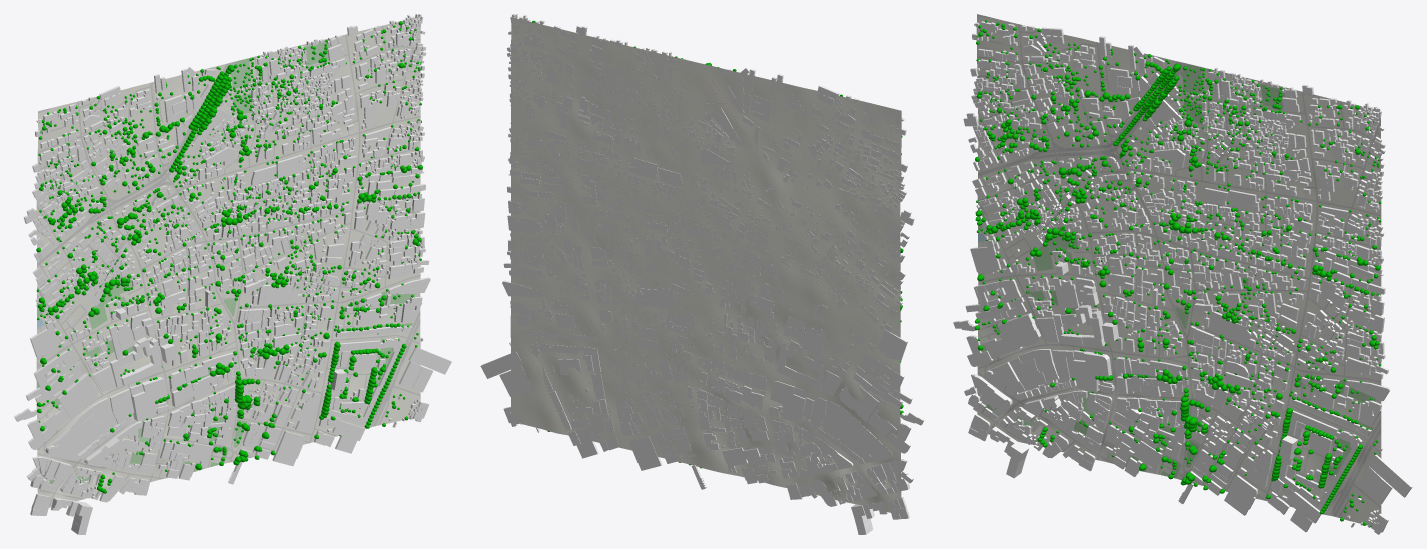
File: topoexport_3D_modeling.glb
The picture shows the model from 3 angles, left to right: view 1: azimuth 30°, elevation 25°; view 2: azimuth 150°, elevation 25°; view 3: azimuth 330°, elevation 25°; orthographic projection. The views are drawn at different scales.
Parts seen in each view (by area): view 1: TPX_Buildings, TPX_Ground, TPX_RoadsOutlines, TPX_GreenAreas; view 2: TPX_Ground, TPX_Buildings; view 3: TPX_Buildings, TPX_Ground, TPX_RoadsOutlines, TPX_GreenAreas.
Part boxes in pixels (x1,y1,x2,y2): TPX_Buildings: (14,14,451,534); TPX_Ground: (36,17,420,507); TPX_RoadsOutlines: (36,25,420,507); TPX_GreenAreas: (36,40,415,484); TPX_Ground: (510,17,901,512); TPX_Buildings: (480,14,924,534); TPX_Buildings: (953,21,1412,534); TPX_Ground: (976,14,1381,525); TPX_RoadsOutlines: (977,15,1381,517); TPX_GreenAreas: (978,63,1375,478).
Bounding box in the file's own units: 1099 × 1050 × 38.33.
